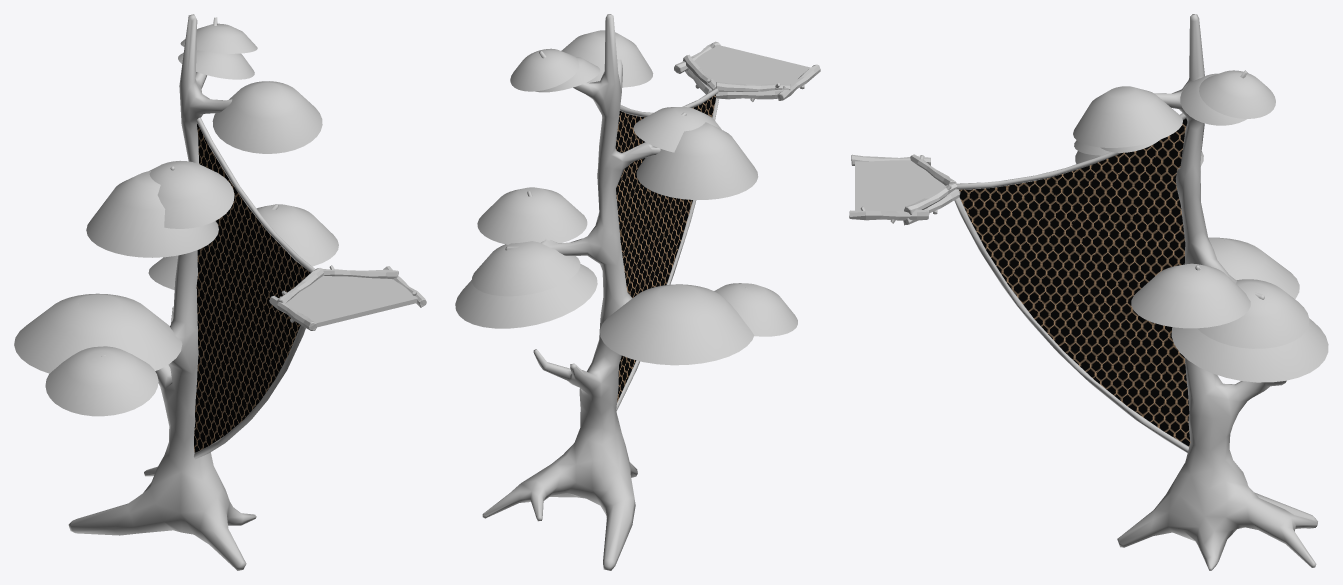
File: TreeFolk5.fbx
The picture shows the model from 3 angles, left to right: view 1: azimuth 30°, elevation 25°; view 2: azimuth 150°, elevation 25°; view 3: azimuth 270°, elevation 25°; orthographic projection. The views are drawn at different scales.
Visible parts, largest first — view 1: Net.001, Tree.013, Leaves.080, Leaves.078, Leaves.079, Leaves.076, Platform.002, Leaves.077, Leaves.083, Leaves.075, Leaves.085, Rope.001 (+4 smaller); view 2: Tree.013, Leaves.080, Net.001, Leaves.078, Leaves.083, Leaves.001, Leaves.084, Platform.002, Leaves.079, Leaves.076, Leaves.077, Leaves.075 (+5 smaller); view 3: Net.001, Tree.013, Leaves.083, Leaves.001, Leaves.076, Leaves.084, Platform.002, Leaves.075, Leaves.080, Rope.002, Leaves.085, Rope.001 (+1 smaller).
Boxes of the visible parts, <box> form: Net.001: <box>194,124,310,452</box>; Tree.013: <box>68,14,278,570</box>; Leaves.080: <box>14,293,182,373</box>; Leaves.078: <box>86,171,218,257</box>; Leaves.079: <box>45,346,158,416</box>; Leaves.076: <box>212,81,322,153</box>; Platform.002: <box>286,275,417,327</box>; Leaves.077: <box>149,160,234,228</box>; Leaves.083: <box>256,204,338,266</box>; Leaves.075: <box>180,23,257,53</box>; Leaves.085: <box>178,50,254,79</box>; Rope.001: <box>196,117,315,272</box>; Tree.013: <box>482,14,746,570</box>; Leaves.080: <box>600,284,754,365</box>; Net.001: <box>615,94,715,402</box>; Leaves.078: <box>636,122,758,199</box>; Leaves.083: <box>477,187,587,244</box>; Leaves.001: <box>455,264,597,328</box>; Leaves.084: <box>472,241,580,296</box>; Platform.002: <box>694,44,810,84</box>; Leaves.079: <box>714,283,797,336</box>; Leaves.076: <box>561,30,653,87</box>; Leaves.077: <box>633,107,721,152</box>; Leaves.075: <box>510,48,579,91</box>; Net.001: <box>959,118,1190,446</box>; Tree.013: <box>1117,14,1317,570</box>; Leaves.083: <box>1131,263,1250,328</box>; Leaves.001: <box>1171,318,1328,382</box>; Leaves.076: <box>1073,86,1182,147</box>; Leaves.084: <box>1197,279,1309,348</box>; Platform.002: <box>855,160,945,211</box>; Leaves.075: <box>1199,70,1275,118</box>; Leaves.080: <box>1208,237,1299,298</box>; Rope.002: <box>954,197,1188,452</box>; Leaves.085: <box>1180,73,1246,125</box>; Rope.001: <box>956,113,1186,189</box>.
Size of what is drawn, in the model's own units: 885 by 1103 by 644.
